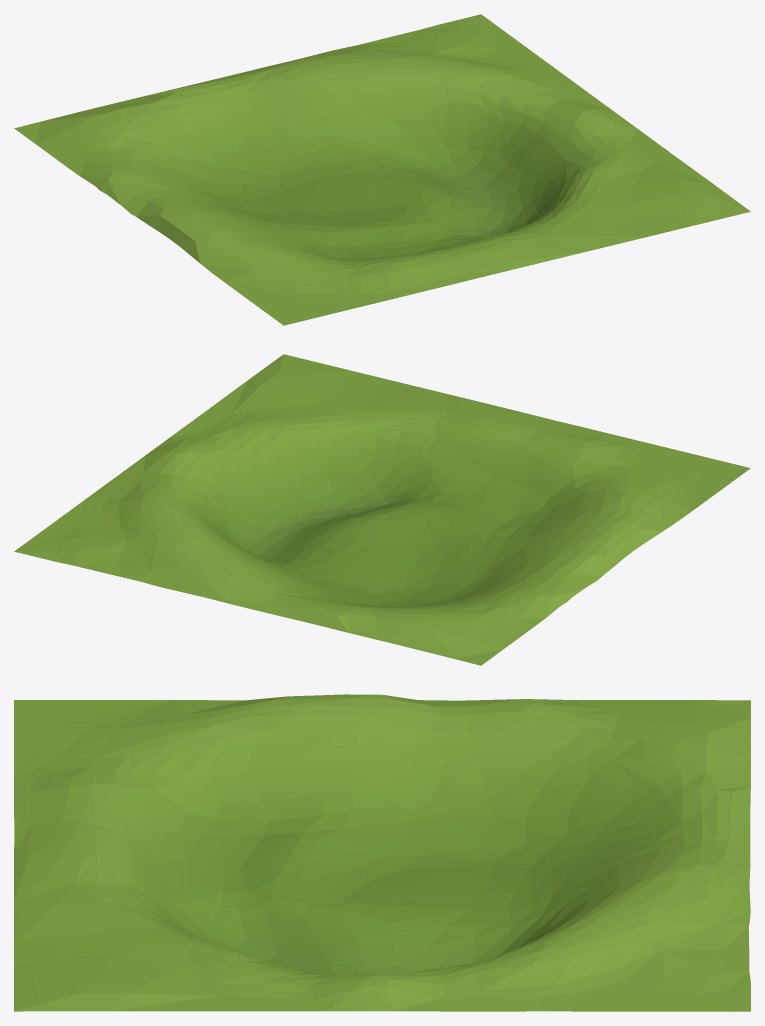
3 views of the same model, one above another, from view 1: azimuth 30°, elevation 25°; view 2: azimuth 150°, elevation 25°; view 3: azimuth 270°, elevation 25° (orthographic). The views are drawn at different scales.
Parts seen in each view (by area): view 1: Plane_06; view 2: Plane_06; view 3: Plane_06.
Boxes of the visible parts, left/top/right/bottom form: Plane_06: left=14, top=14, right=750, bottom=325; Plane_06: left=14, top=354, right=750, bottom=665; Plane_06: left=14, top=694, right=750, bottom=1011.
Size of the model in its own units: 50 by 6.08 by 50.
